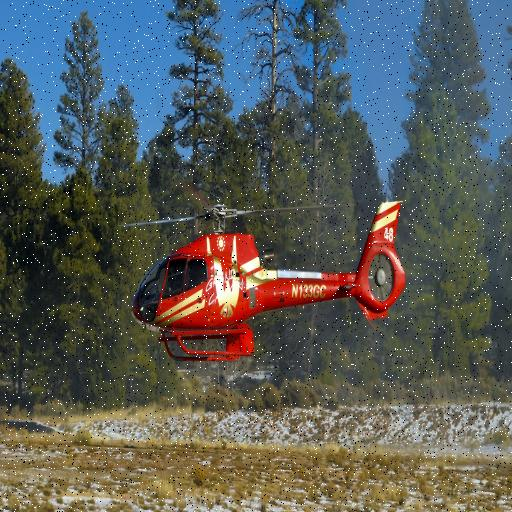helicopter: (124, 199, 407, 361)
